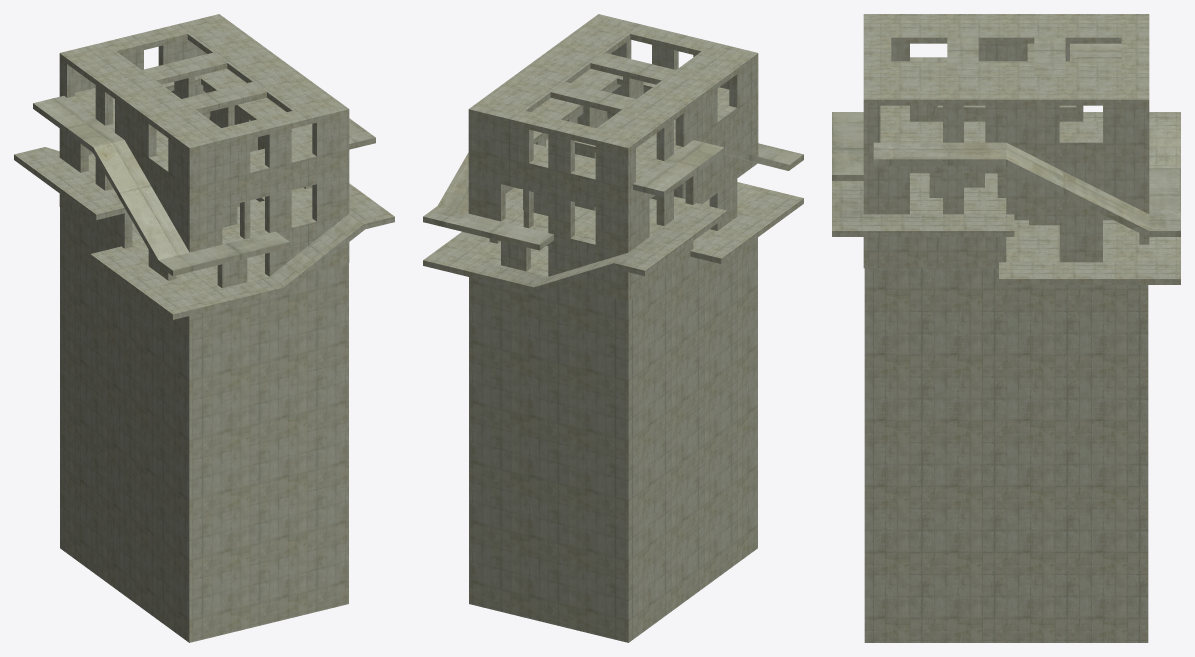
File: SM_LDFest_30_00.fbx
3 renders of one model, left to right at view 1: azimuth 30°, elevation 25°; view 2: azimuth 150°, elevation 25°; view 3: azimuth 270°, elevation 25°, orthographic. The views are drawn at different scales.
Visible parts, largest first — view 1: SM_LDFest_30_00; view 2: SM_LDFest_30_00; view 3: SM_LDFest_30_00.
Boxes of the visible parts, box(x1,y1,x2,y2) form: SM_LDFest_30_00: box(14, 14, 394, 642); SM_LDFest_30_00: box(423, 14, 803, 642); SM_LDFest_30_00: box(832, 14, 1180, 642).
Bounding box in the file's own units: 2810 × 5989 × 3482.
